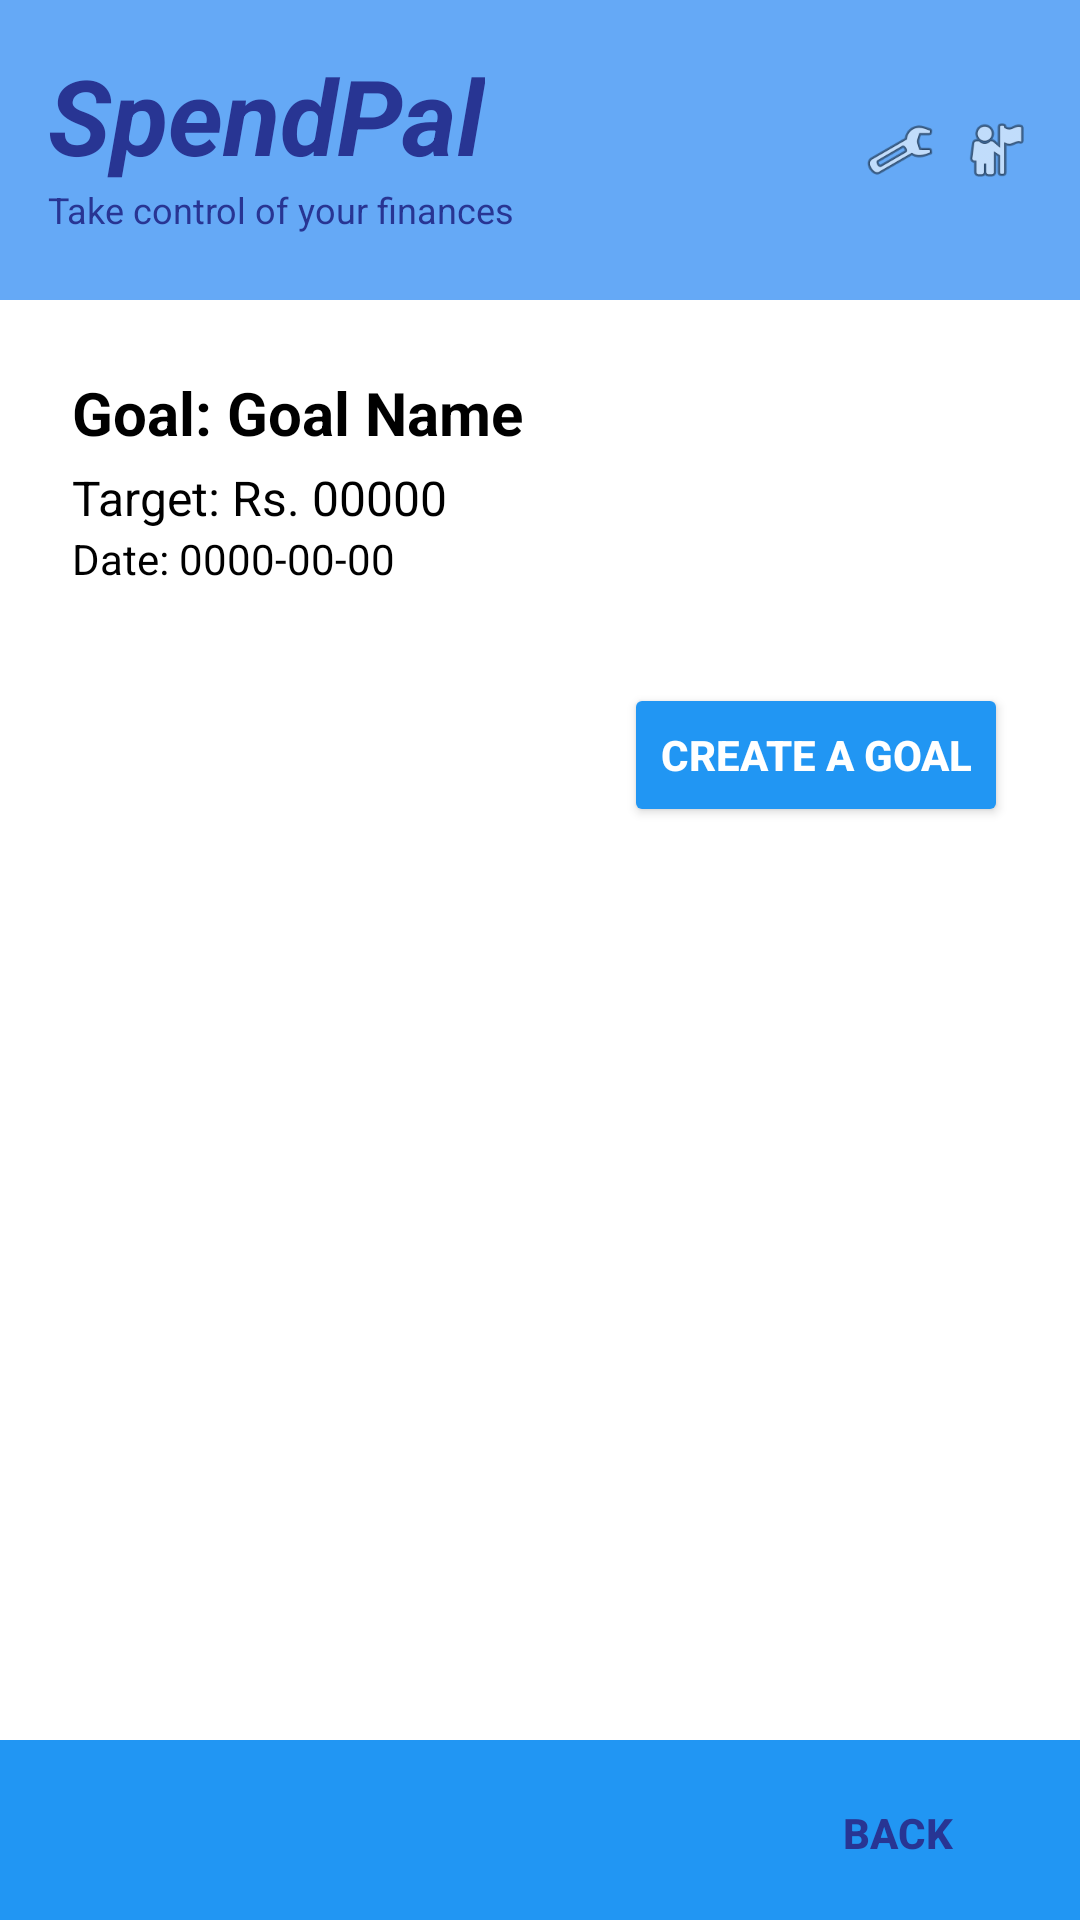

Point at icon controls on the screen. Image size 1080w x 1920h, points as [x,y].
manage: [899,150]
myplaces: [997,150]
